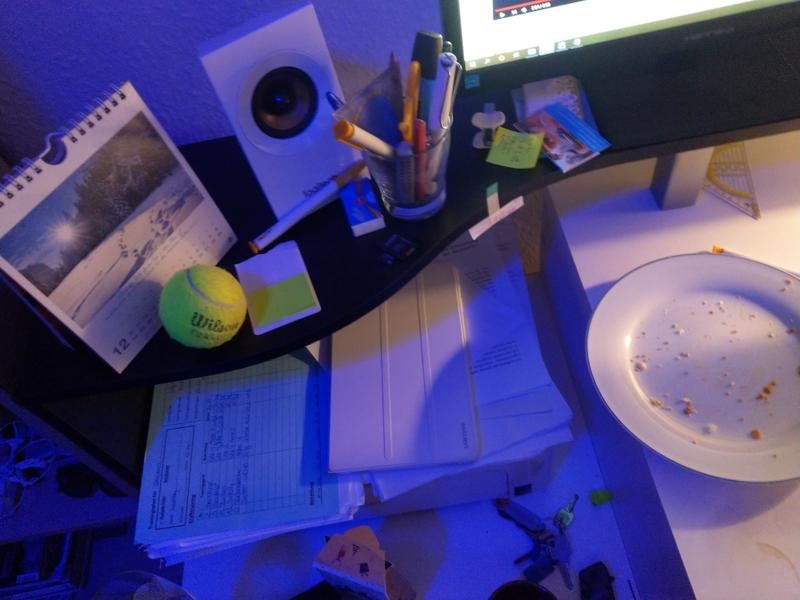Tennisball: (155, 262, 251, 353)
